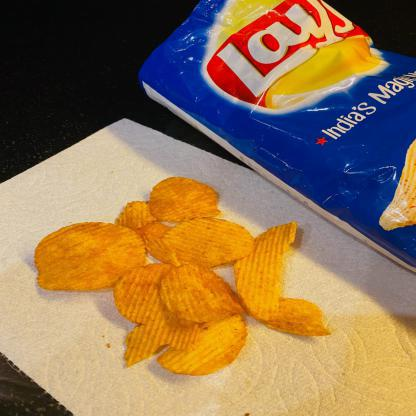indian_magic_masala: (138, 0, 415, 261)
